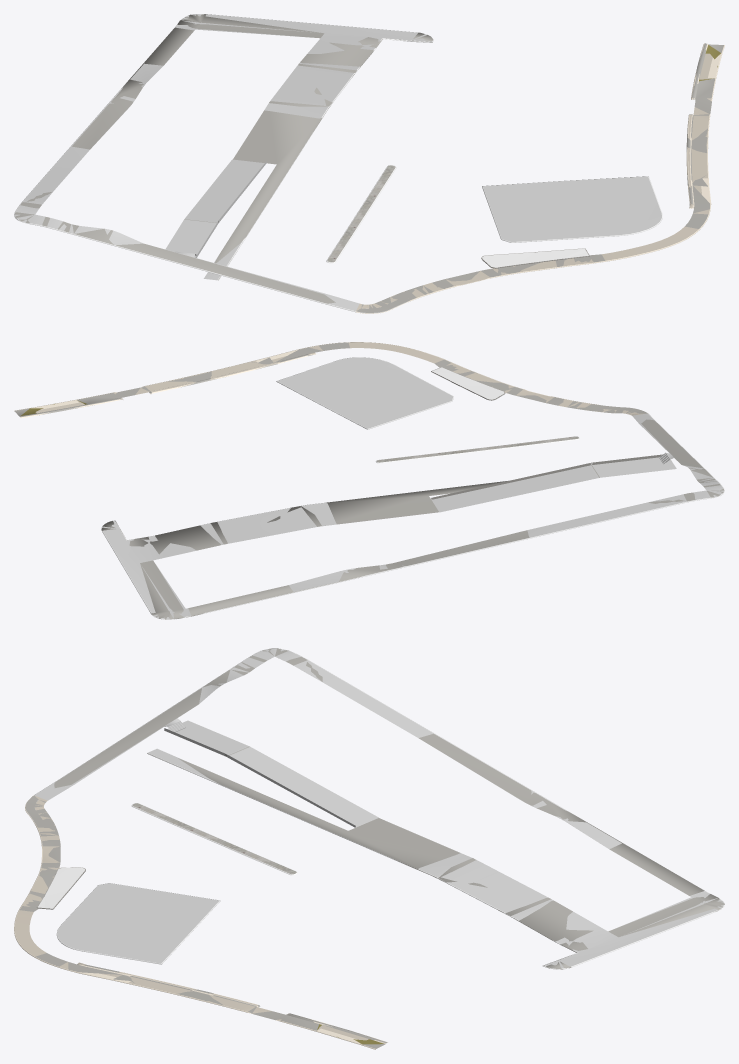
File: sidewalk_cinema.dae
3 renders of one model, top to bottom at view 1: azimuth 30°, elevation 25°; view 2: azimuth 150°, elevation 25°; view 3: azimuth 270°, elevation 25°, orthographic. The views are drawn at different scales.
Parts seen in each view (by area): view 1: Colmesh-1, sidewalk_cinema_a2000; view 2: Colmesh-1, sidewalk_cinema_a2000; view 3: Colmesh-1, sidewalk_cinema_a2000.
Part boxes in pixels (left/top/right/bottom): Colmesh-1: left=14, top=14, right=724, bottom=313; sidewalk_cinema_a2000: left=15, top=14, right=723, bottom=312; Colmesh-1: left=14, top=342, right=724, bottom=619; sidewalk_cinema_a2000: left=14, top=342, right=724, bottom=619; Colmesh-1: left=14, top=648, right=724, bottom=1049; sidewalk_cinema_a2000: left=20, top=648, right=724, bottom=1048.
Bounding box in the file's own units: 177 × 151 × 15.57.
